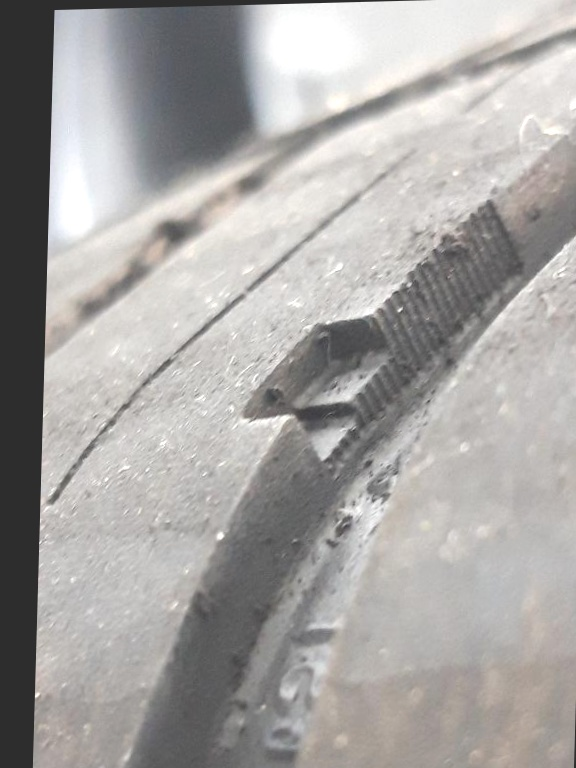temoin:50: (226, 273, 446, 501)
